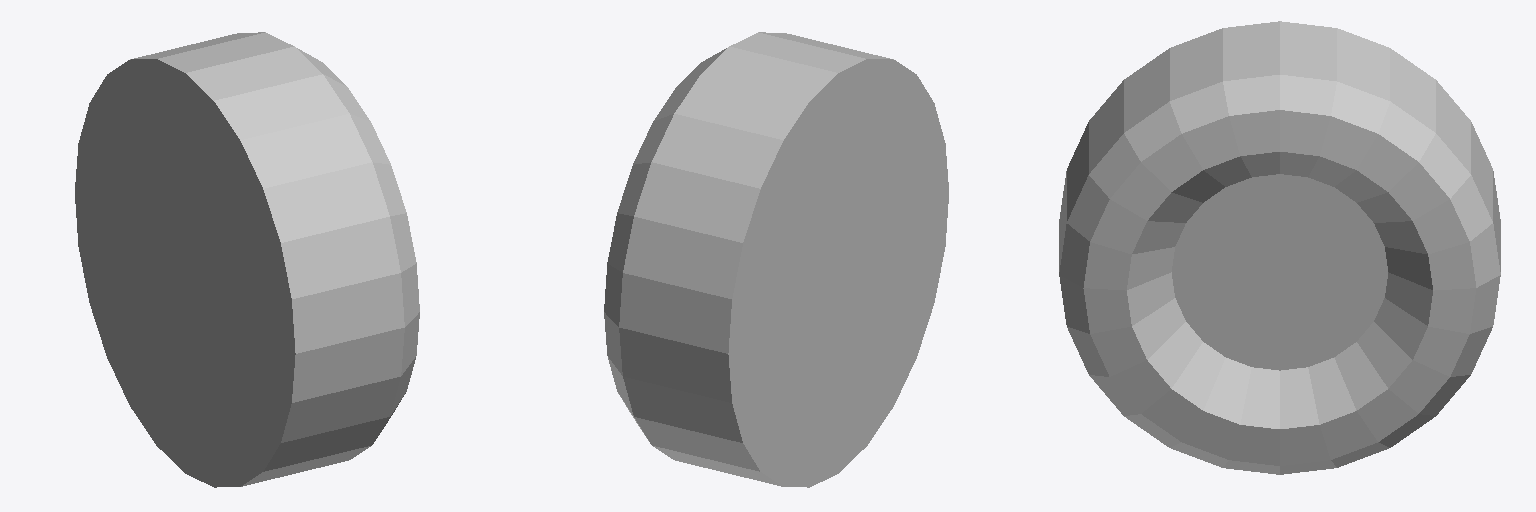
The model's file is wheelLargeRim.obj.
The picture shows the model from 3 angles: view 1: azimuth 30°, elevation 25°; view 2: azimuth 150°, elevation 25°; view 3: azimuth 270°, elevation 25°; orthographic projection.
Visible parts, largest first — view 1: wheelLargeRim; view 2: wheelLargeRim; view 3: wheelLargeRim.
Boxes of the visible parts, x1=… form: wheelLargeRim: x1=75, y1=32, x2=419, y2=487; wheelLargeRim: x1=604, y1=32, x2=948, y2=487; wheelLargeRim: x1=1059, y1=21, x2=1500, y2=474.
Bounding box in the file's own units: 1.66 × 4.48 × 4.48.